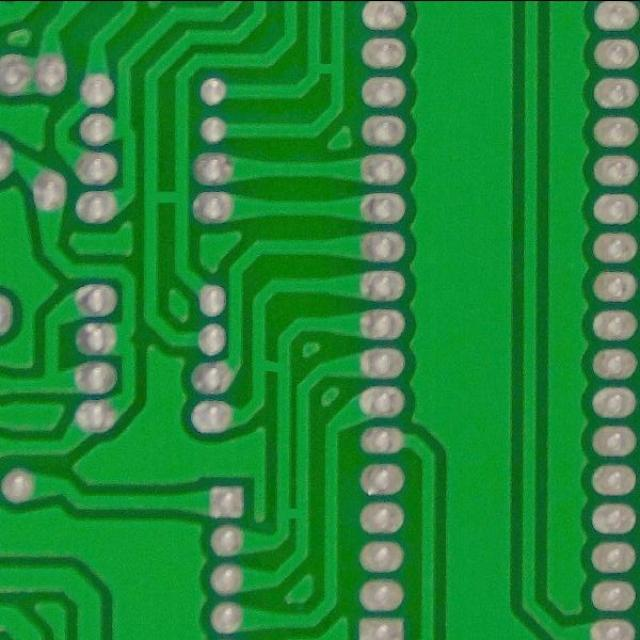Short_Circuit: (137, 176, 196, 219), (246, 350, 298, 387), (270, 496, 317, 532), (303, 52, 350, 86)
